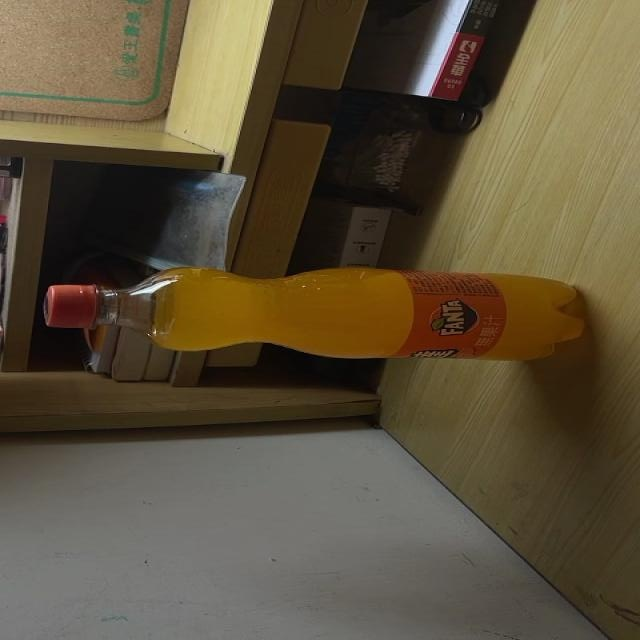Fanta: (43, 268, 586, 361)
